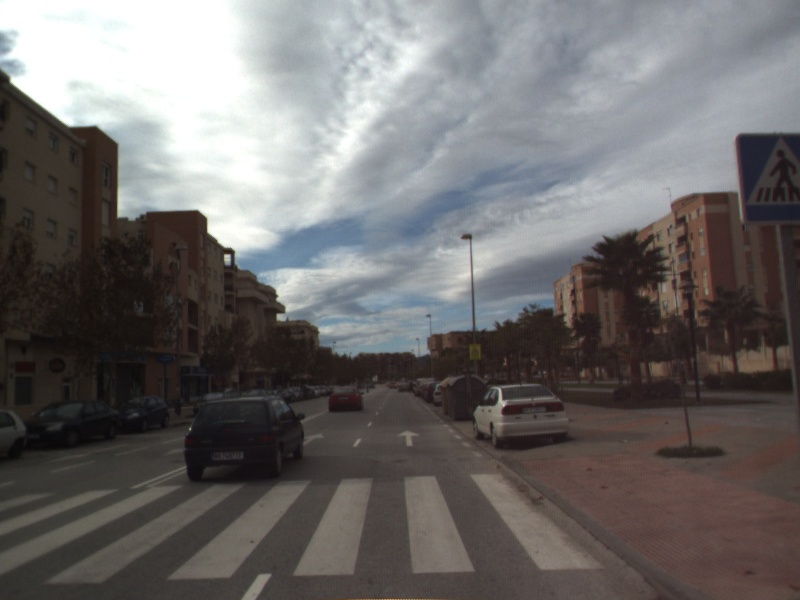STRAIGHT: (395, 428, 422, 448), (302, 431, 326, 446)
